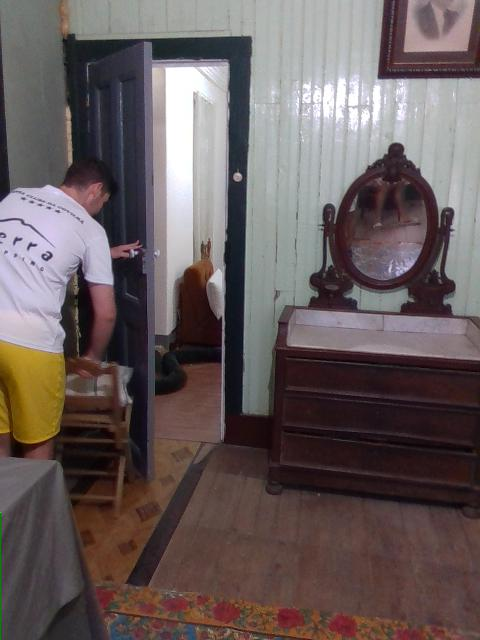semi_door: (58, 33, 253, 483)
